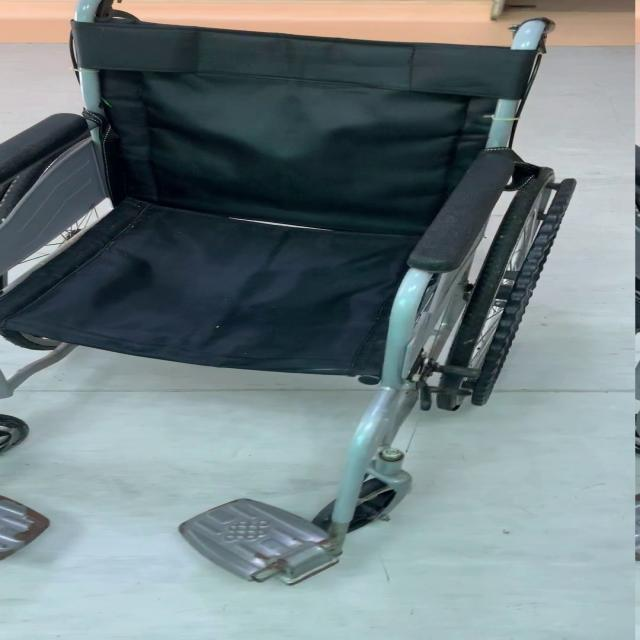wheelchair: (4, 0, 640, 595)
